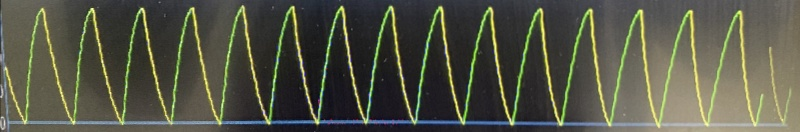normal_volume: (6, 0, 772, 130)
